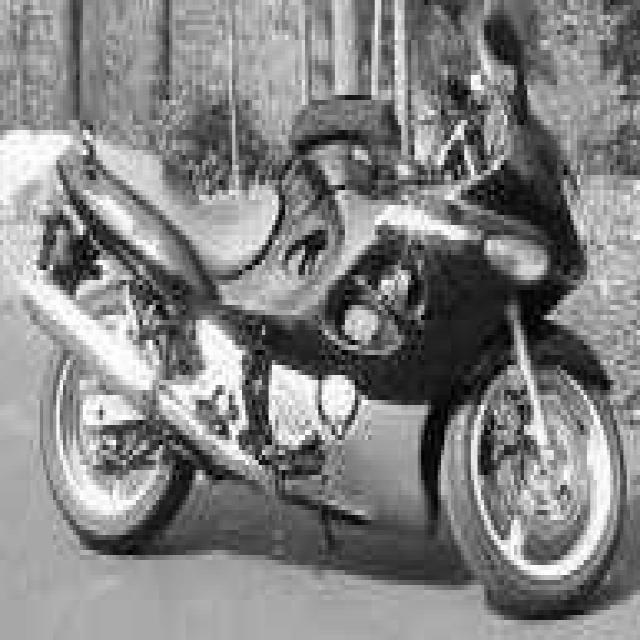Motorcycle: (24, 13, 626, 616)
